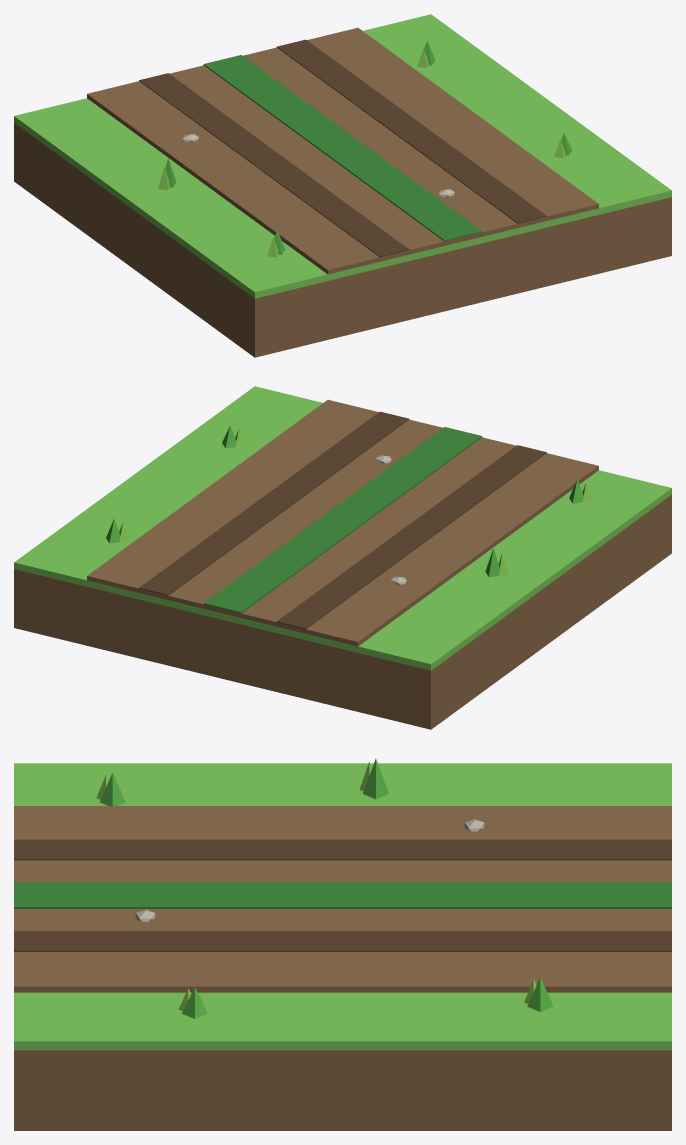
The model's file is terra_reta.glb.
The picture shows the model from 3 angles, top to bottom: view 1: azimuth 30°, elevation 25°; view 2: azimuth 150°, elevation 25°; view 3: azimuth 270°, elevation 25°; orthographic projection. The views are drawn at different scales.
Parts seen in each view (by area): view 1: corpo; view 2: corpo; view 3: corpo.
Part boxes in pixels (x1,y1,x2,y2): corpo: (14,14,671,357); corpo: (14,386,671,729); corpo: (14,758,671,1130).
Bounding box in the file's own units: 2 × 0.42 × 2.
